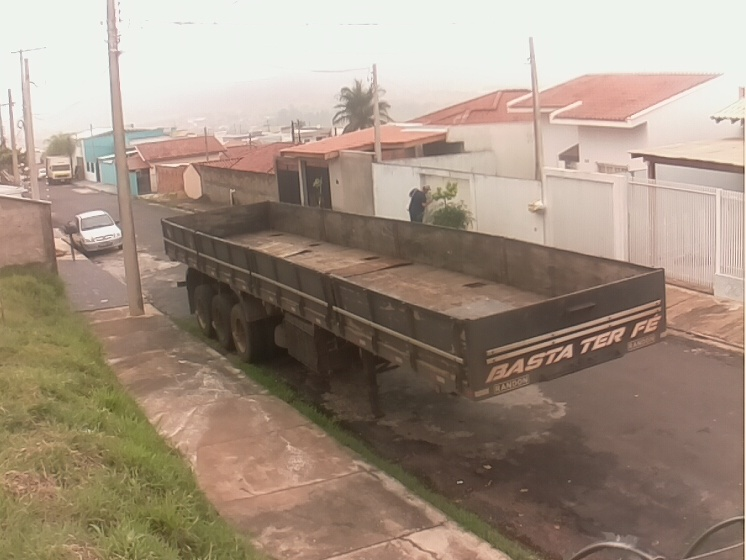person: (405, 184, 433, 223)
